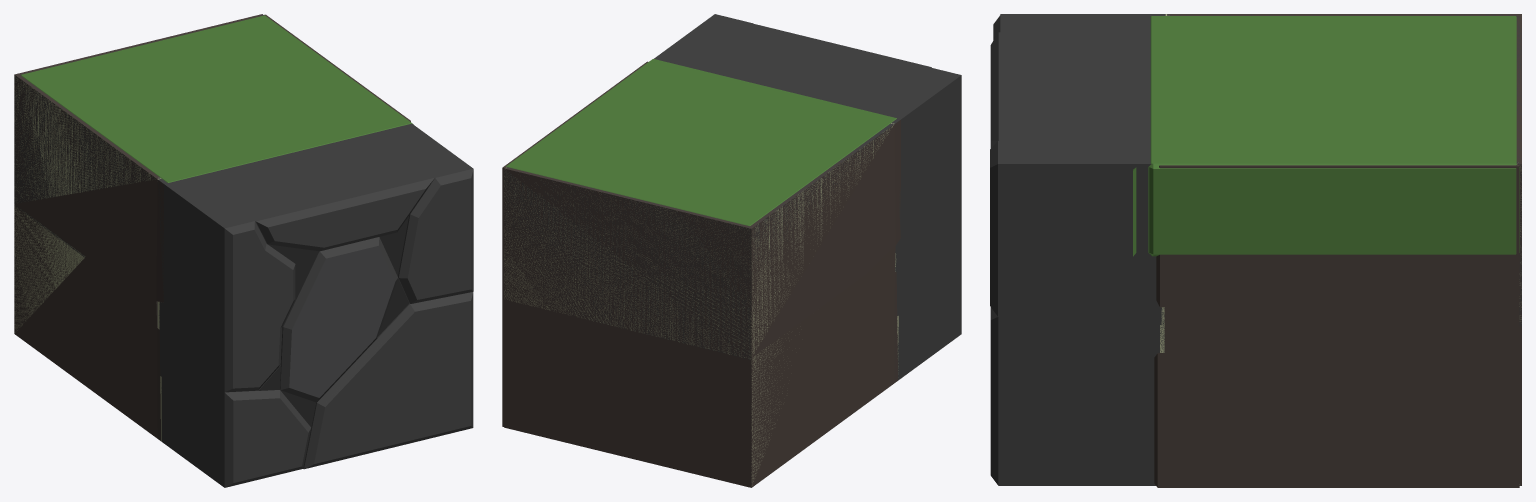
File: FinalFinal.fbx
The picture shows the model from 3 angles, left to right: view 1: azimuth 30°, elevation 25°; view 2: azimuth 150°, elevation 25°; view 3: azimuth 270°, elevation 25°; orthographic projection. The views are drawn at different scales.
Parts seen in each view (by area): view 1: Cube.009, Cube, Cube.001, Cube.011, Cube.006, Cube.005, Cube.004, Cube.007; view 2: Cube.001, Cube, Cube.009, Cube.004, Cube.010, Cube.011, Cube.007, Cube.006, Cube.005, Cube.003; view 3: Cube, Cube.003, Cube.009, Cube.012, Cube.001, Cube.004.
Boxes of the visible parts, <box> form: Cube.009: <box>81,123,473,487</box>; Cube: <box>21,15,413,182</box>; Cube.001: <box>14,14,263,440</box>; Cube.011: <box>15,87,157,308</box>; Cube.006: <box>14,76,161,441</box>; Cube.005: <box>14,77,160,253</box>; Cube.004: <box>14,14,263,257</box>; Cube.007: <box>14,78,158,310</box>; Cube.001: <box>504,120,900,487</box>; Cube: <box>506,59,896,225</box>; Cube.009: <box>654,14,961,380</box>; Cube.004: <box>504,124,892,359</box>; Cube.010: <box>504,142,879,358</box>; Cube.011: <box>504,124,895,357</box>; Cube.007: <box>504,132,895,359</box>; Cube.006: <box>506,123,898,485</box>; Cube.005: <box>504,123,892,350</box>; Cube.003: <box>502,61,647,426</box>; Cube: <box>1133,16,1519,256</box>; Cube.003: <box>1154,164,1519,487</box>; Cube.009: <box>990,14,1165,485</box>; Cube.012: <box>1164,166,1519,327</box>; Cube.001: <box>1167,14,1521,485</box>; Cube.004: <box>1168,14,1521,326</box>.
Size of the model in its own units: 203 by 201 by 300.
